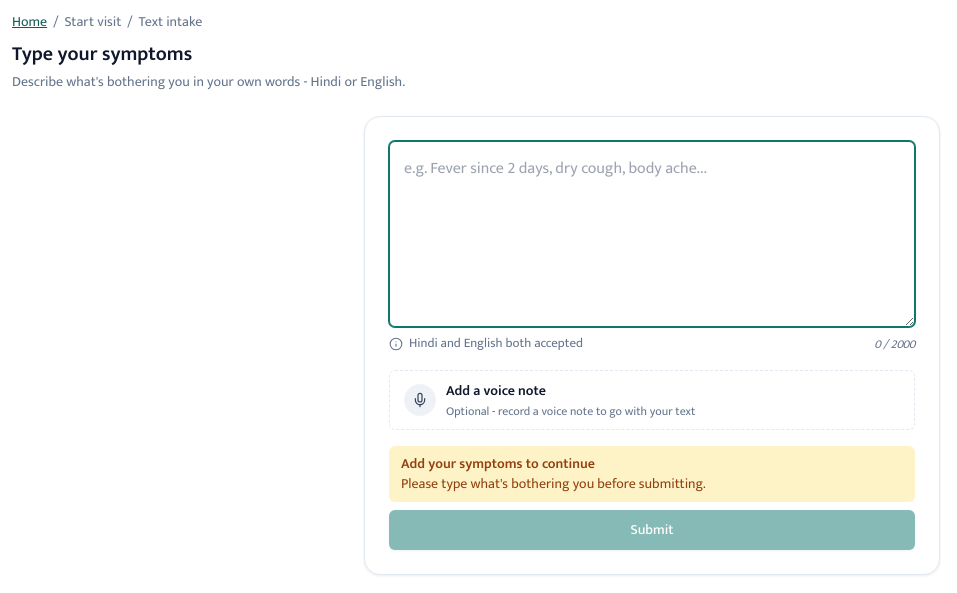
it: TextIntakePage submit -> Structuring pending -> pre-summary link › rides an optional note as a doctor-only media ref, never as text
The image size is (957, 593).
Click the button with test id "note-attach".
click(652, 400)  # box [389,370,915,430]
Wait 4000 ms
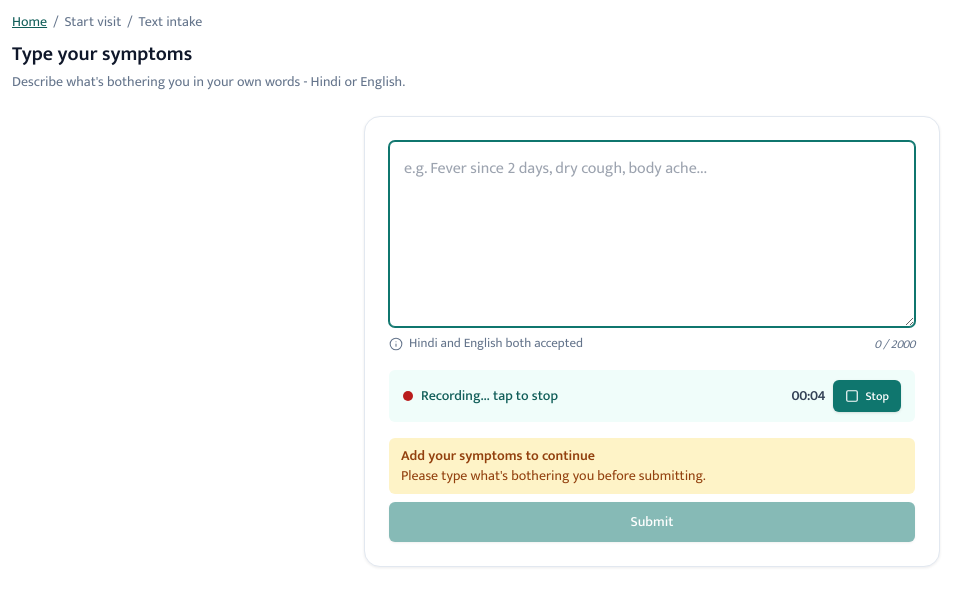
Click the button with test id "note-stop".
click(867, 396)  # box [833,380,901,412]
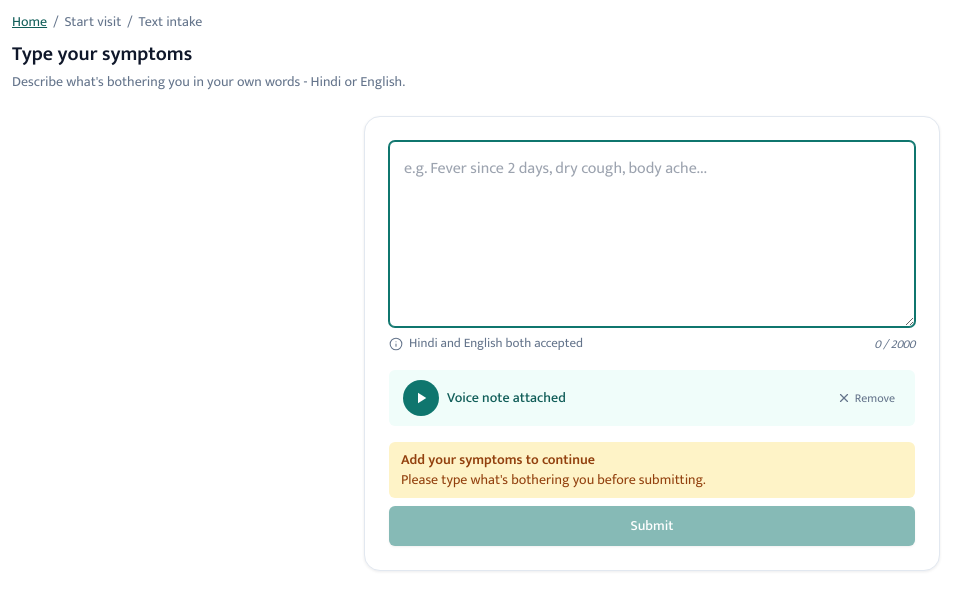
Type "fever since two days" into the text box with test id "textarea".
click(652, 234); type("fever since two days")  # box [389,141,915,327]
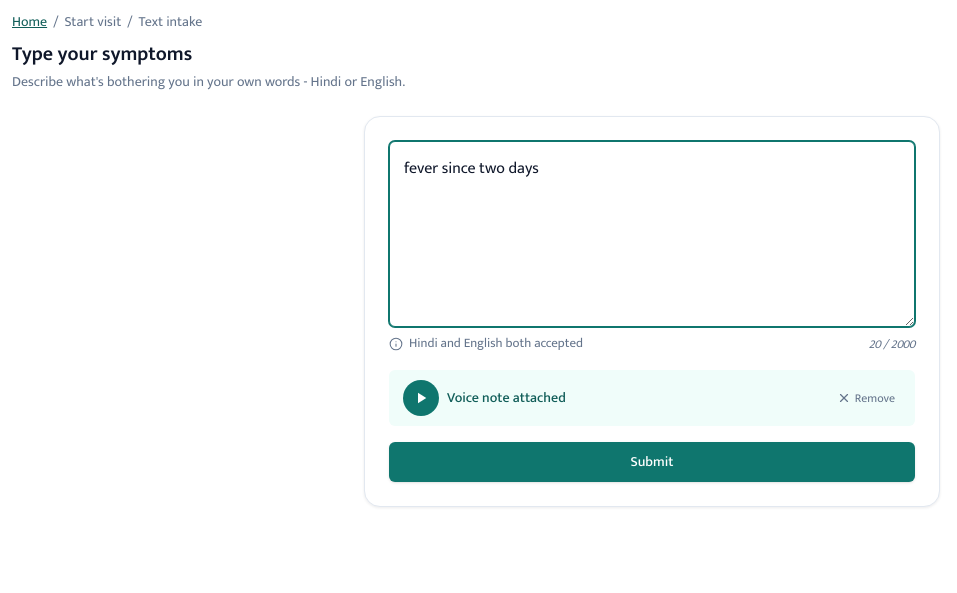
Click the button with test id "btn-submit".
click(652, 462)  # box [389,442,915,482]
Wait 2000 ms
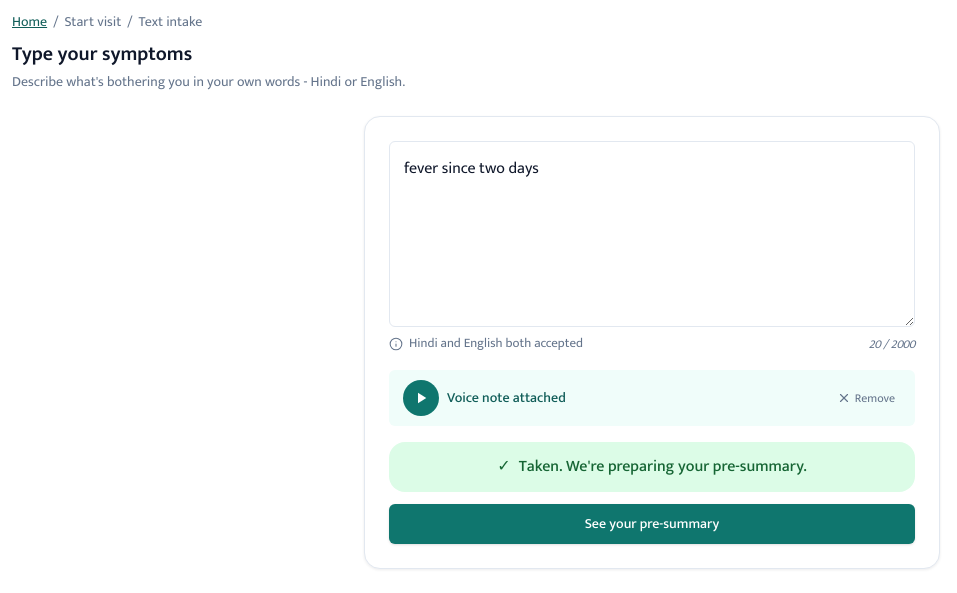
Result: the element with test id "done-zone" is shown at [389,442,915,544]
